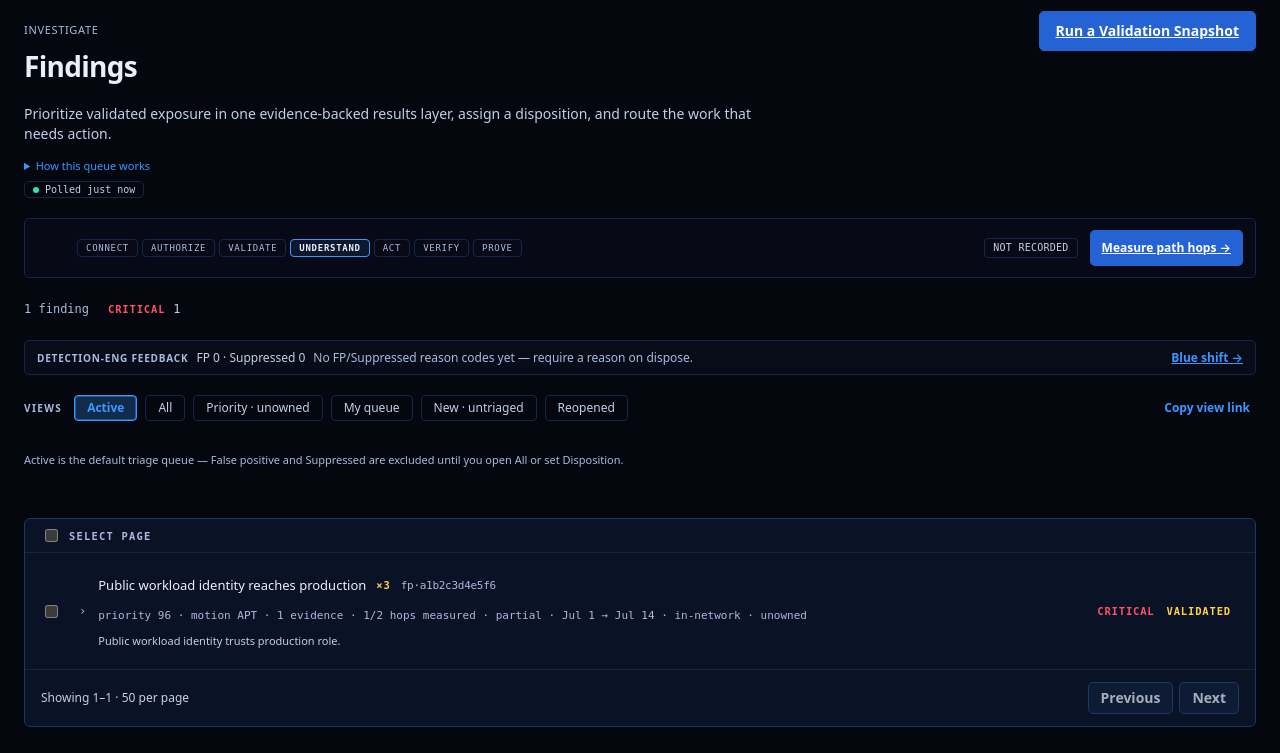
Test case: FindingsWorkbench v2 › offers optional suppress revisit date in bulk and single disposition (P18-9)
Single-row disposition control (expand before bulk selection).
Click the button with aria-label "Expand finding: Public workload identity reaches production" at (656, 611), box [73, 562, 1239, 660]
(page scrolled)
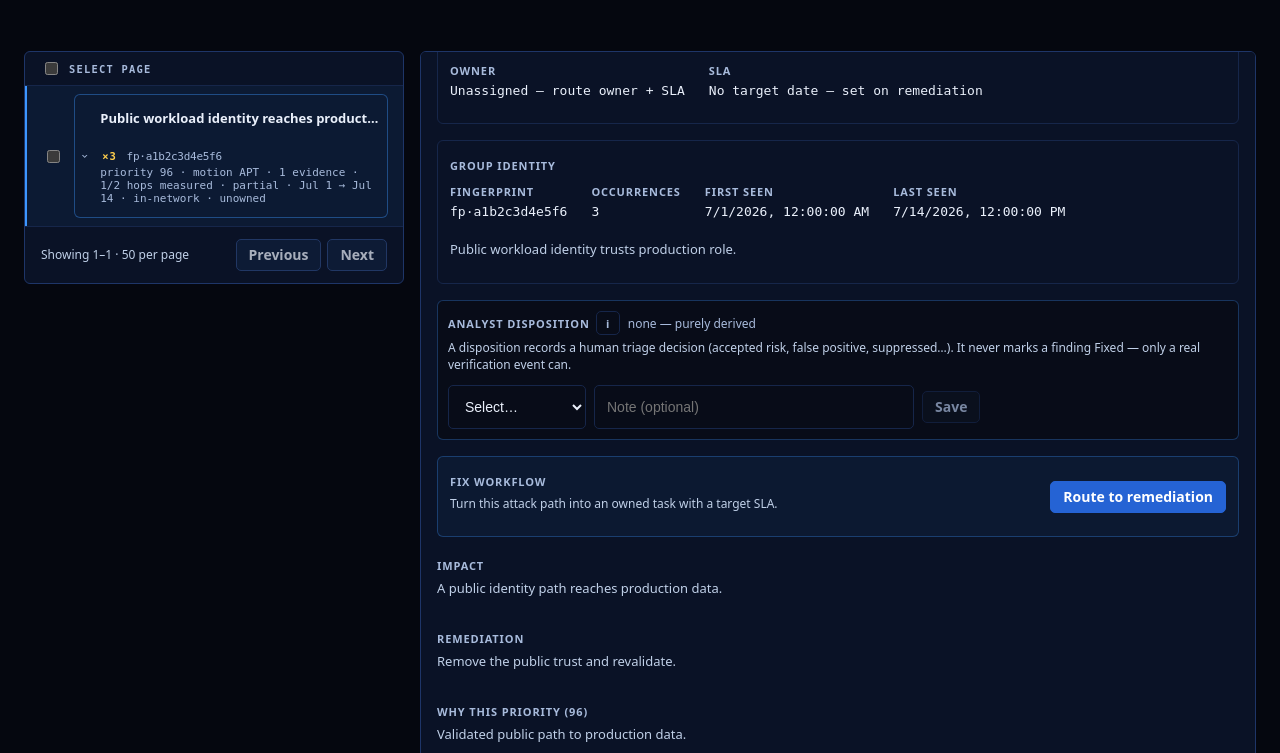
Now the text "Analyst disposition" is shown, box [448, 316, 590, 331]
Select "Suppressed" in the dropdown named "Disposition" at (517, 407), box [448, 385, 586, 429]
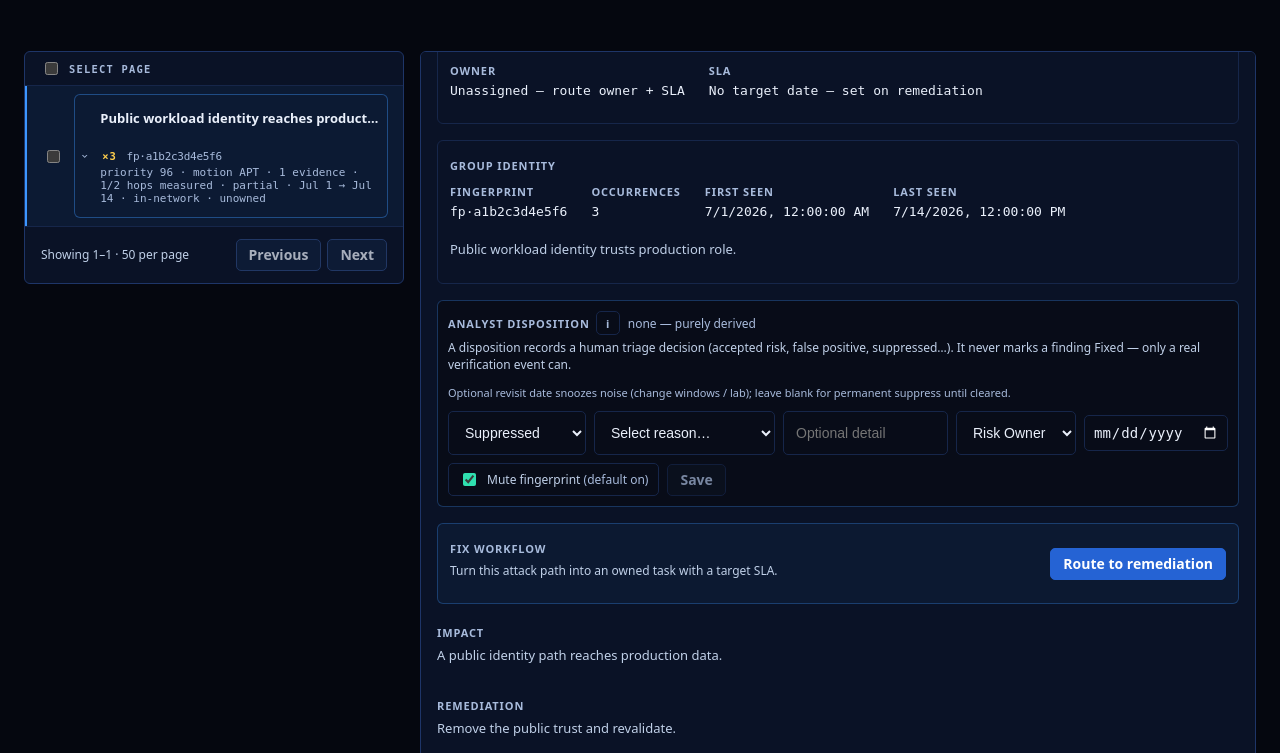
Now the date field named "Suppress revisit date" is shown, box [1084, 415, 1228, 451]
Now the text "Optional revisit date snoozes noise" is shown, box [448, 385, 1011, 400]
Bulk disposition control for selected rows.
Click the checkbox named "Select Public workload identity reaches production" at (54, 156), box [47, 150, 60, 163]
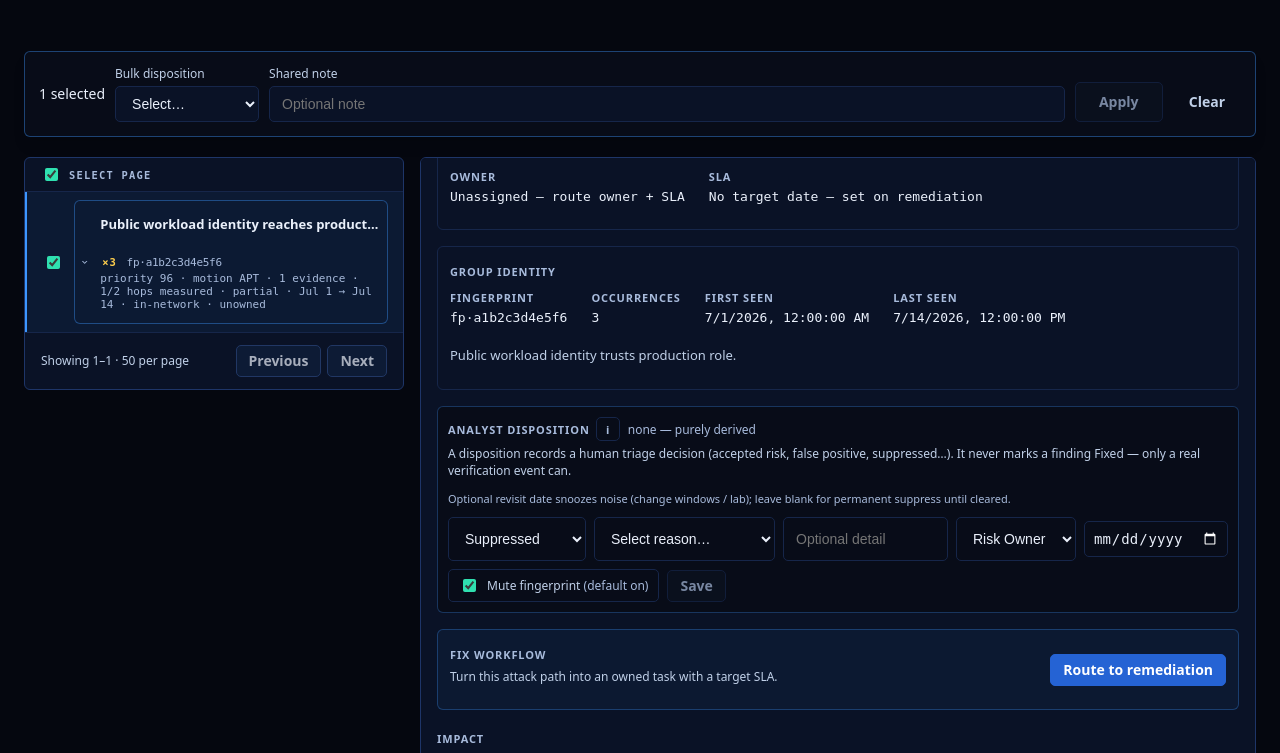
Select "Suppressed" in the dropdown labelled "Bulk disposition" at (187, 104), box [115, 86, 259, 122]
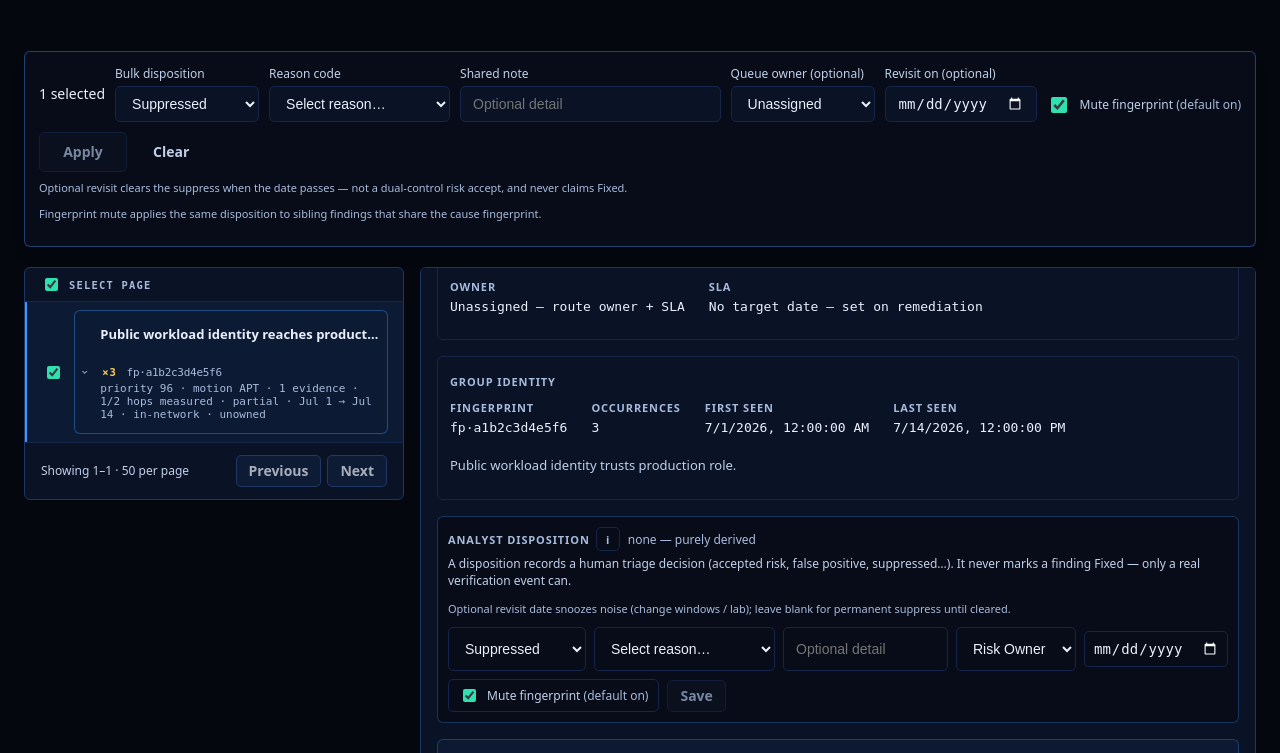
Now the button "Apply" is disabled, box [39, 132, 127, 172]
Now the text "Optional revisit clears the suppress" is shown, box [39, 180, 627, 195]
